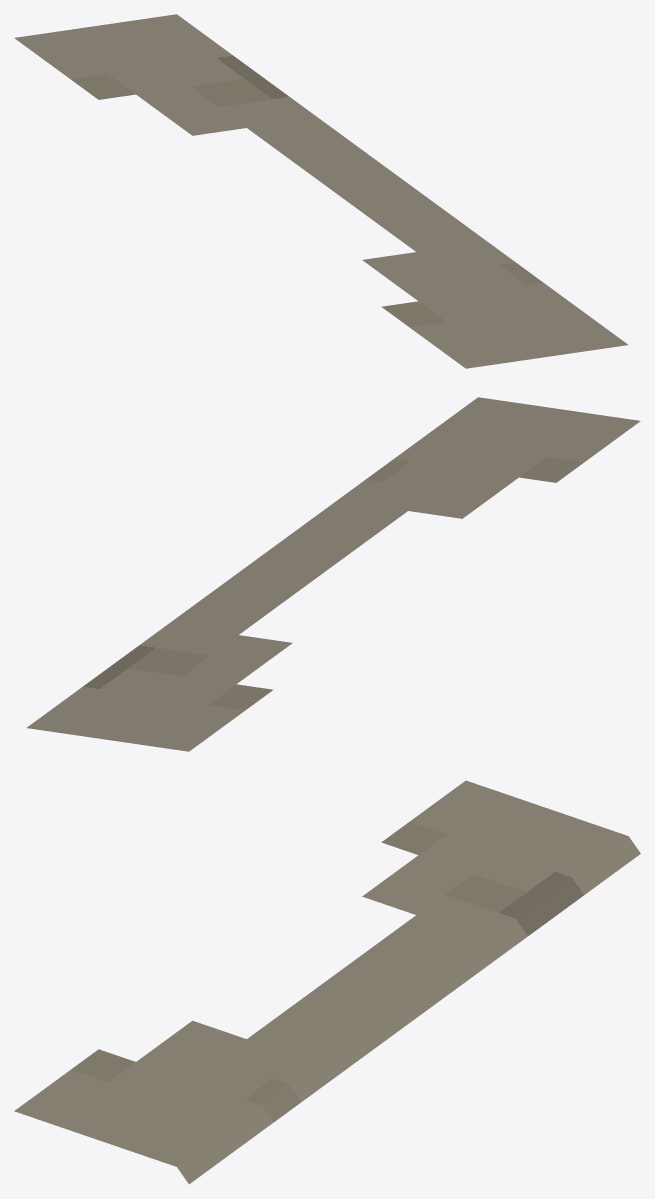
The picture shows the model from 3 angles, top to bottom: view 1: azimuth 30°, elevation 25°; view 2: azimuth 150°, elevation 25°; view 3: azimuth 330°, elevation 25°; orthographic projection.
Size of the model in its own units: 0.2236 by 0.0373 by 1.
Materials: 1 (1 with a texture image).
